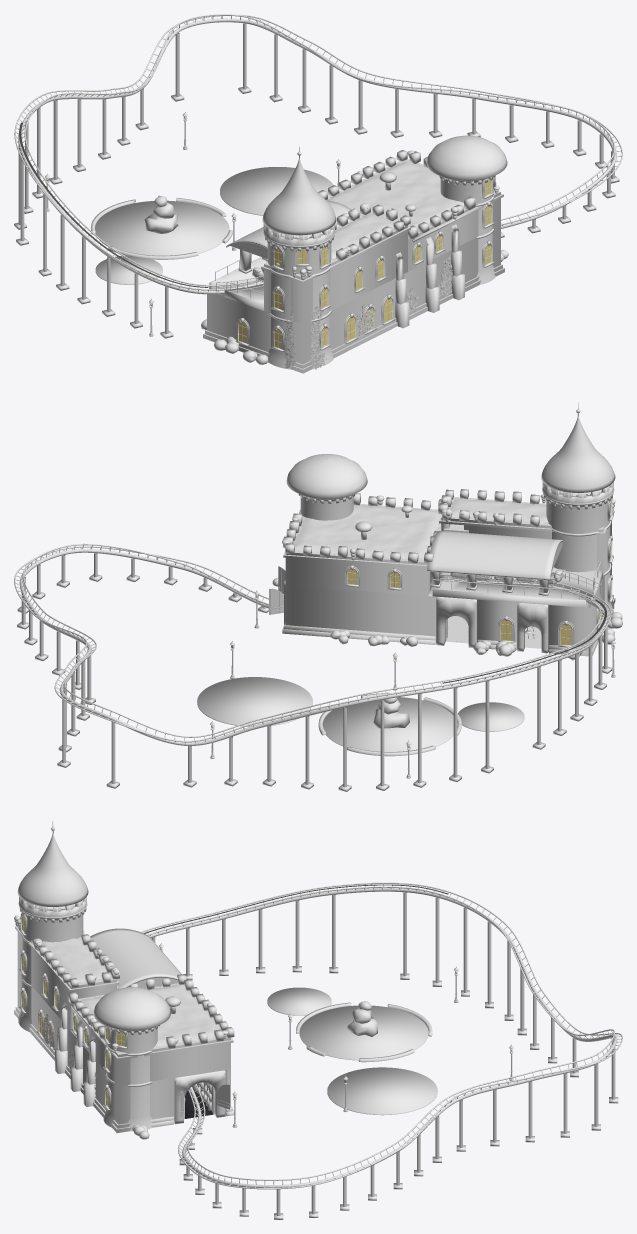
The picture shows the model from 3 angles, top to bottom: view 1: azimuth 30°, elevation 25°; view 2: azimuth 150°, elevation 25°; view 3: azimuth 270°, elevation 25°; orthographic projection. The views are drawn at different scales.
Parts seen in each view (by area): view 1: MI40_Static_STX_StoneGrey, MI40_Static_STX_StoneDark, MI40_Static_STX_RailPurple, MI40_Static_STX_SupportPurple, MI40_Static_STX_MossGrass, MI40_Static_STX_PlazaWhite, MI40_Static_STX_Lawn, MI40_Static_STX_RoofSlate, MI40_Static_STX_MushroomRoofCap, MI40_Static_STX_Concrete, MI40_Static_STX_WindowYellow, MI40_Static_STX_Ivy (+4 smaller); view 2: MI40_Static_STX_StoneGrey, MI40_Static_STX_StoneDark, MI40_Static_STX_RailPurple, MI40_Static_STX_RoofSlate, MI40_Static_STX_MossGrass, MI40_Static_STX_SupportPurple, MI40_Static_STX_Lawn, MI40_Static_STX_PlazaWhite, MI40_Static_STX_WoodDeck, MI40_Static_STX_MushroomRoofCap, MI40_Static_STX_Concrete, MI40_Static_STX_Bush (+4 smaller); view 3: MI40_Static_STX_StoneGrey, MI40_Static_STX_RailPurple, MI40_Static_STX_StoneDark, MI40_Static_STX_SupportPurple, MI40_Static_STX_RoofSlate, MI40_Static_STX_Lawn, MI40_Static_STX_PlazaWhite, MI40_Static_STX_MossGrass, MI40_Static_STX_MushroomRoofCap, MI40_Static_STX_Concrete, MI40_Static_STX_SpinePurple, MI40_Static_STX_WindowYellow.
Part boxes in pixels (box(x1,y1,x2,y2)): MI40_Static_STX_StoneGrey: box(144, 150, 500, 369); MI40_Static_STX_StoneDark: box(91, 159, 504, 373); MI40_Static_STX_RailPurple: box(14, 14, 622, 298); MI40_Static_STX_SupportPurple: box(18, 23, 614, 333); MI40_Static_STX_MossGrass: box(272, 150, 499, 280); MI40_Static_STX_PlazaWhite: box(95, 200, 229, 255); MI40_Static_STX_Lawn: box(95, 167, 333, 284); MI40_Static_STX_RoofSlate: box(226, 158, 351, 248); MI40_Static_STX_MushroomRoofCap: box(426, 135, 507, 181); MI40_Static_STX_Concrete: box(14, 86, 619, 338); MI40_Static_STX_WindowYellow: box(238, 178, 491, 348); MI40_Static_STX_Ivy: box(280, 256, 452, 369); MI40_Static_STX_StoneGrey: box(283, 482, 613, 728); MI40_Static_STX_StoneDark: box(282, 488, 615, 756); MI40_Static_STX_RailPurple: box(14, 543, 611, 745); MI40_Static_STX_RoofSlate: box(427, 416, 615, 580); MI40_Static_STX_MossGrass: box(282, 489, 615, 560); MI40_Static_STX_SupportPurple: box(21, 553, 607, 787); MI40_Static_STX_Lawn: box(197, 677, 524, 731); MI40_Static_STX_PlazaWhite: box(322, 697, 457, 751); MI40_Static_STX_WoodDeck: box(432, 567, 602, 607); MI40_Static_STX_MushroomRoofCap: box(286, 454, 367, 499); MI40_Static_STX_Concrete: box(17, 574, 612, 791); MI40_Static_STX_Bush: box(272, 577, 622, 660); MI40_Static_STX_StoneGrey: box(17, 897, 377, 1131); MI40_Static_STX_RailPurple: box(140, 882, 622, 1189); MI40_Static_STX_StoneDark: box(14, 902, 432, 1133); MI40_Static_STX_SupportPurple: box(151, 892, 615, 1215); MI40_Static_STX_RoofSlate: box(17, 833, 181, 988); MI40_Static_STX_Lawn: box(267, 987, 437, 1115); MI40_Static_STX_PlazaWhite: box(299, 1005, 428, 1060); MI40_Static_STX_MossGrass: box(14, 902, 228, 1050); MI40_Static_STX_MushroomRoofCap: box(93, 987, 170, 1030); MI40_Static_STX_Concrete: box(179, 966, 618, 1219); MI40_Static_STX_SpinePurple: box(146, 883, 621, 1187); MI40_Static_STX_WindowYellow: box(22, 914, 124, 1106).
Bounding box in the file's own units: 65.04 × 24.42 × 66.05.
